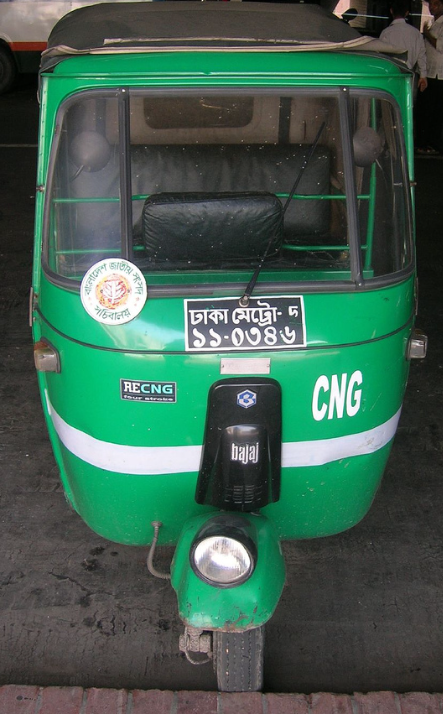cng: (20, 23, 435, 697)
